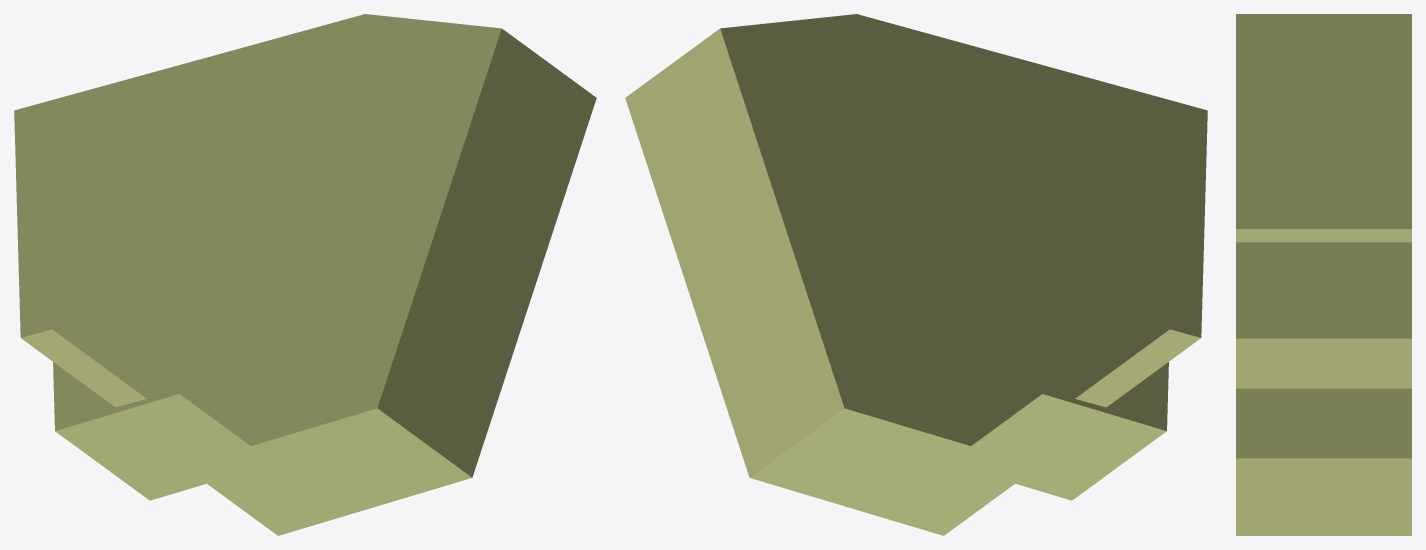
3 views of the same model, side by side, from view 1: azimuth 30°, elevation 25°; view 2: azimuth 150°, elevation 25°; view 3: azimuth 270°, elevation 25° (orthographic). The views are drawn at different scales.
Parts seen in each view (by area): view 1: 0_0_1_3_2_2_3_2_3; view 2: 0_0_1_3_2_2_3_2_3; view 3: 0_0_1_3_2_2_3_2_3.
Boxes of the visible parts, x1,y1,x2,y2 form: 0_0_1_3_2_2_3_2_3: (14, 14, 596, 535); 0_0_1_3_2_2_3_2_3: (625, 14, 1207, 535); 0_0_1_3_2_2_3_2_3: (1236, 14, 1411, 535).
Size of the model in its own units: 17.79 by 14.22 by 6.
